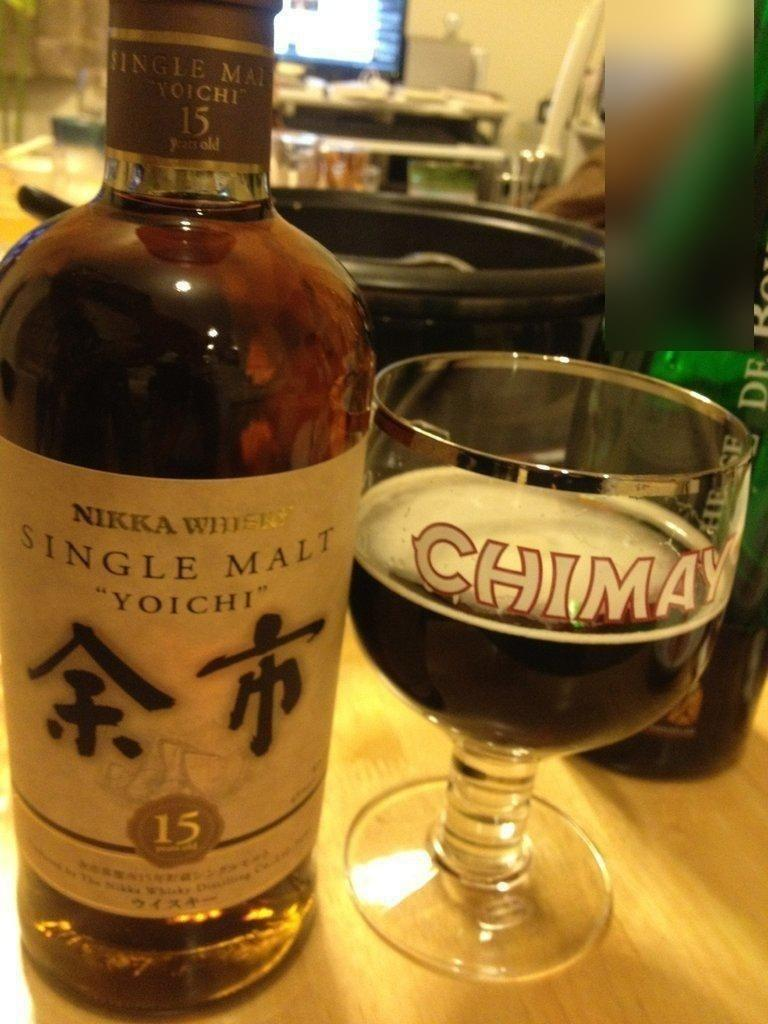bottle-glass: (1, 1, 366, 1004)
glass-wine: (348, 352, 759, 983)
